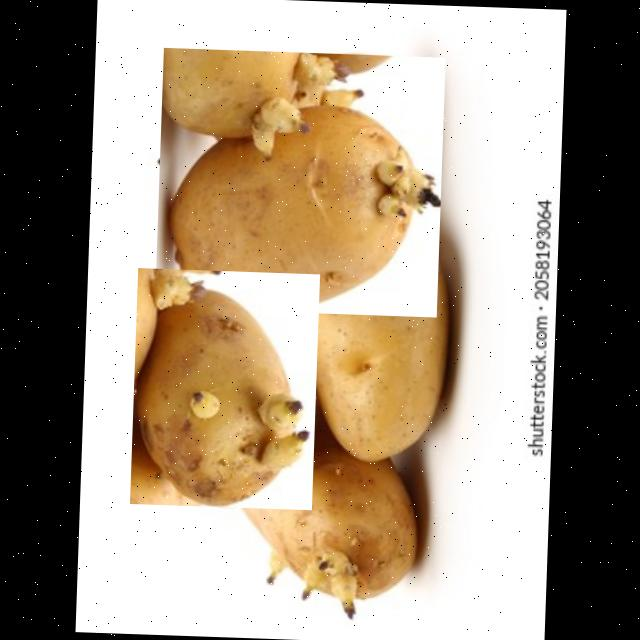Sprouted potato: (154, 46, 446, 316), (130, 266, 320, 508), (292, 212, 466, 470), (225, 413, 421, 614)
